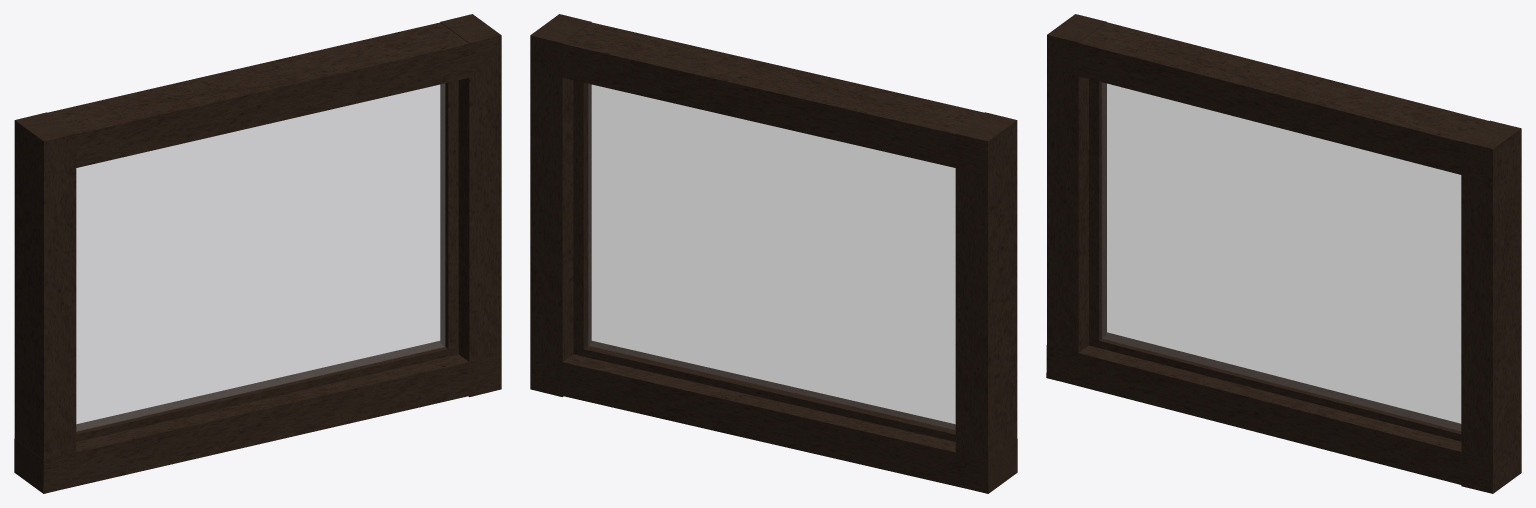
Rendered from Window for kitchen.fbx.
The picture shows the model from 3 angles, left to right: view 1: azimuth 30°, elevation 25°; view 2: azimuth 150°, elevation 25°; view 3: azimuth 330°, elevation 25°; orthographic projection. The views are drawn at different scales.
Visible parts, largest first — view 1: pasted__pCube841, pasted__pasted__pCube757, pasted__pasted__pCube758; view 2: pasted__pCube841, pasted__pasted__pCube757, pasted__pasted__pCube758; view 3: pasted__pCube841, pasted__pasted__pCube757, pasted__pasted__pCube758.
Part boxes in pixels (x1,y1,x2,y2): pasted__pCube841: (76,83,445,431); pasted__pasted__pCube757: (14,14,501,493); pasted__pasted__pCube758: (76,80,458,441); pasted__pCube841: (588,84,955,429); pasted__pasted__pCube757: (530,14,1017,493); pasted__pasted__pCube758: (573,80,955,441); pasted__pCube841: (1102,82,1460,430); pasted__pasted__pCube757: (1046,14,1521,493); pasted__pasted__pCube758: (1089,79,1461,441).
Size of the model in its own units: 222 by 167 by 24.57.
